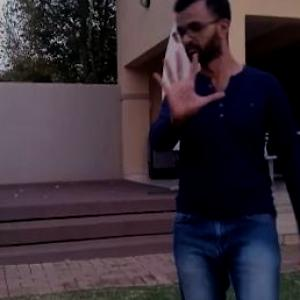follow_hand: (151, 44, 227, 127)
